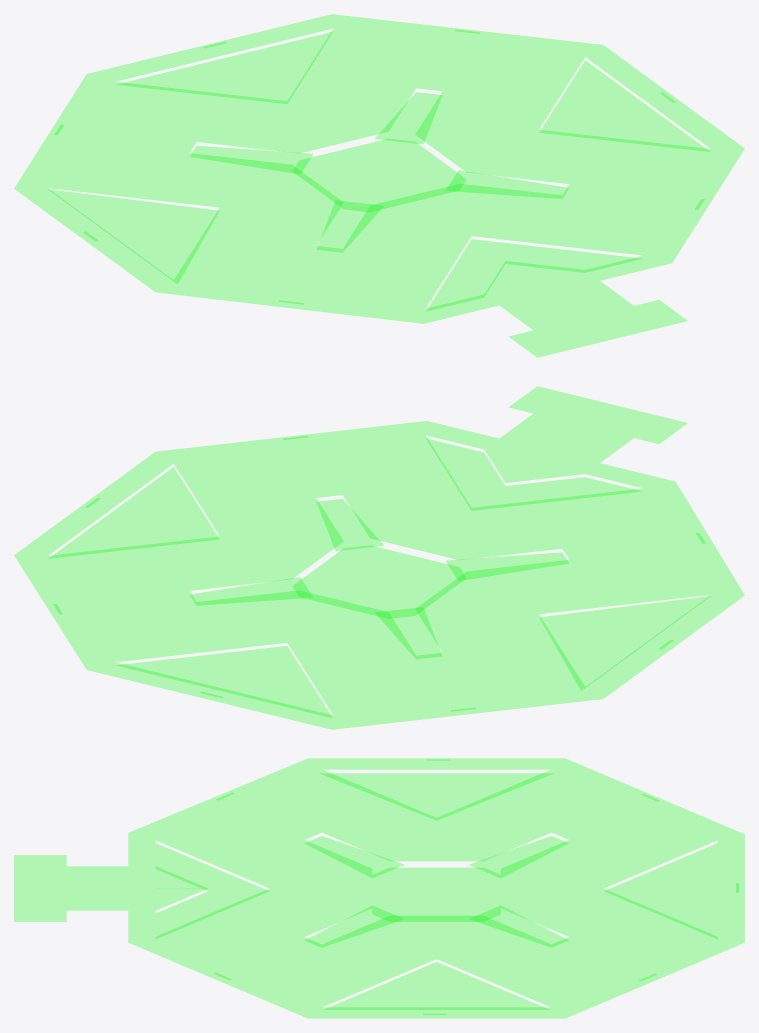
The model's file is s087_na1-floor.glb.
3 views of the same model, one above another, from view 1: azimuth 30°, elevation 25°; view 2: azimuth 150°, elevation 25°; view 3: azimuth 270°, elevation 25° (orthographic). The views are drawn at different scales.
Parts seen in each view (by area): view 1: collision_floor-colonly; view 2: collision_floor-colonly; view 3: collision_floor-colonly.
Part boxes in pixels (x1,y1,x2,y2): collision_floor-colonly: [14, 14, 744, 357]; collision_floor-colonly: [14, 386, 744, 729]; collision_floor-colonly: [14, 758, 744, 1018].
Size of the model in its own units: 41 by 0.5547 by 48.61.
